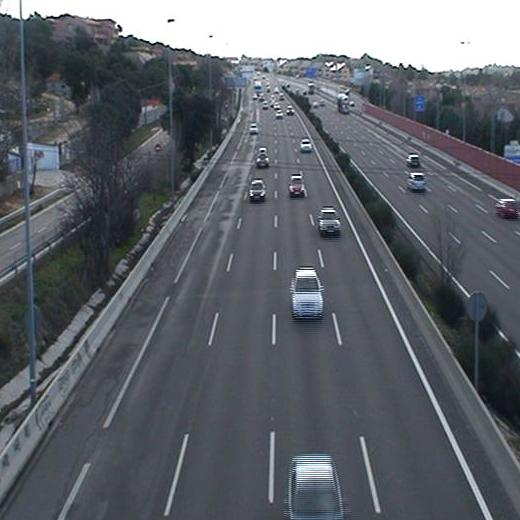car: (287, 266, 329, 319), (316, 206, 343, 236), (287, 174, 307, 198), (248, 179, 266, 202), (254, 151, 271, 169), (299, 137, 313, 152), (247, 122, 260, 135)
